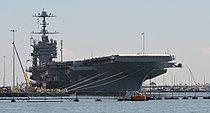MIL_Ship: (26, 8, 179, 91)
